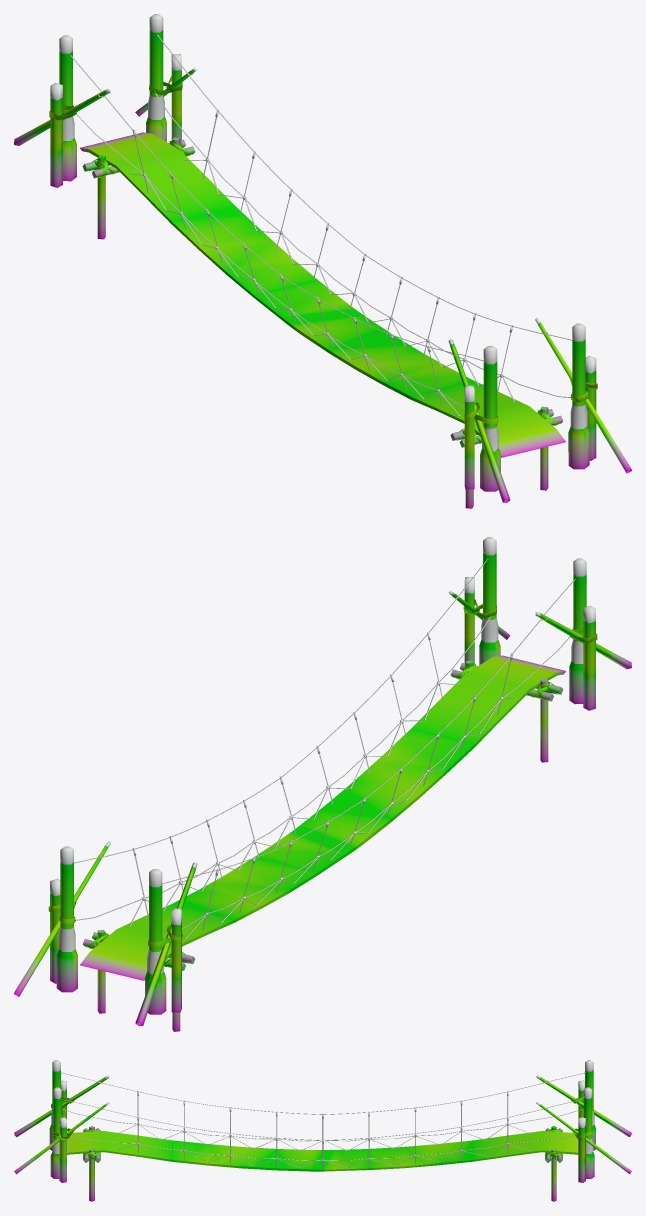
The picture shows the model from 3 angles, top to bottom: view 1: azimuth 30°, elevation 25°; view 2: azimuth 150°, elevation 25°; view 3: azimuth 270°, elevation 25°; orthographic projection. The views are drawn at different scales.
Parts seen in each view (by area): view 1: G:\FFXIV-MapTools\exports\f1f2\bg\ffxiv\fst_f1\fld\f1f2\bgpa (×3); view 2: G:\FFXIV-MapTools\exports\f1f2\bg\ffxiv\fst_f1\fld\f1f2\bgpa (×3); view 3: G:\FFXIV-MapTools\exports\f1f2\bg\ffxiv\fst_f1\fld\f1f2\bgpa (×3).
Boxes of the visible parts, x1,y1,x2,y2 form: G:\FFXIV-MapTools\exports\f1f2\bg\ffxiv\fst_f1\fld\f1f2\bgpa (×3): (14,14,631,508); G:\FFXIV-MapTools\exports\f1f2\bg\ffxiv\fst_f1\fld\f1f2\bgpa (×3): (14,537,631,1031); G:\FFXIV-MapTools\exports\f1f2\bg\ffxiv\fst_f1\fld\f1f2\bgpa (×3): (14,1060,631,1201).
Bounding box in the file's own units: 8.34 × 10.95 × 53.5.
